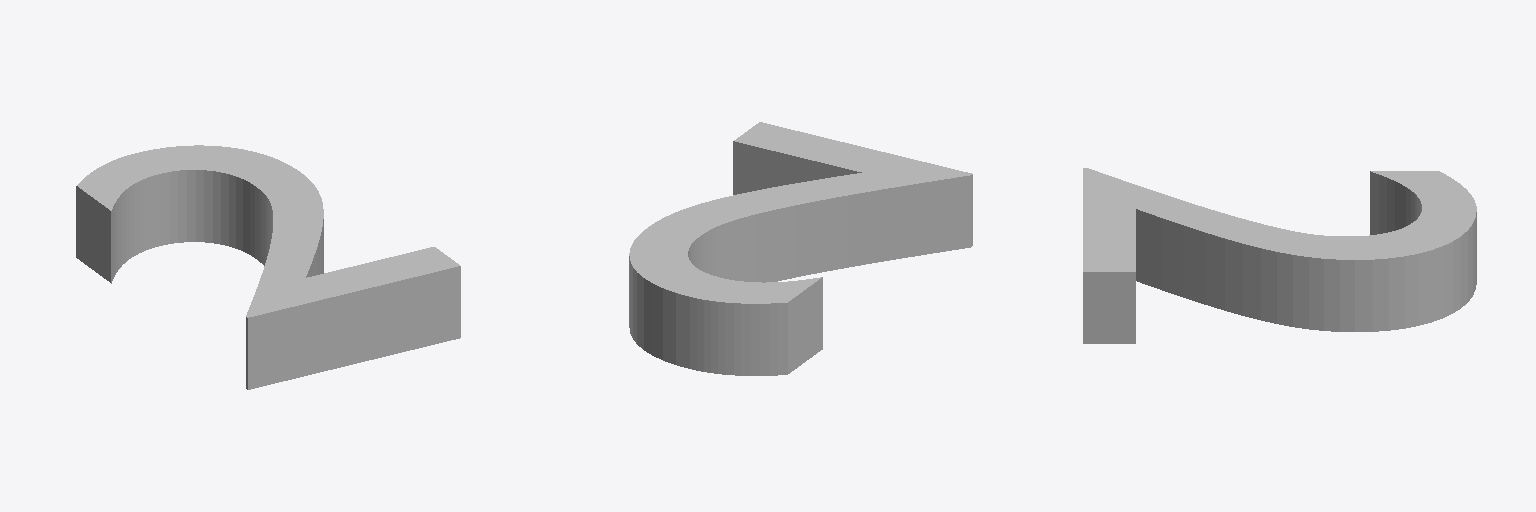
Rendered from Number_2.obj.
3 views of the same model, side by side, from view 1: azimuth 30°, elevation 25°; view 2: azimuth 150°, elevation 25°; view 3: azimuth 270°, elevation 25° (orthographic).
Visible parts, largest first — view 1: Text; view 2: Text; view 3: Text.
Part boxes in pixels (x1,y1,x2,y2): Text: (76,145,460,389); Text: (629,122,972,375); Text: (1083,168,1476,343).
Bounding box in the file's own units: 0.432 × 0.14 × 0.691.